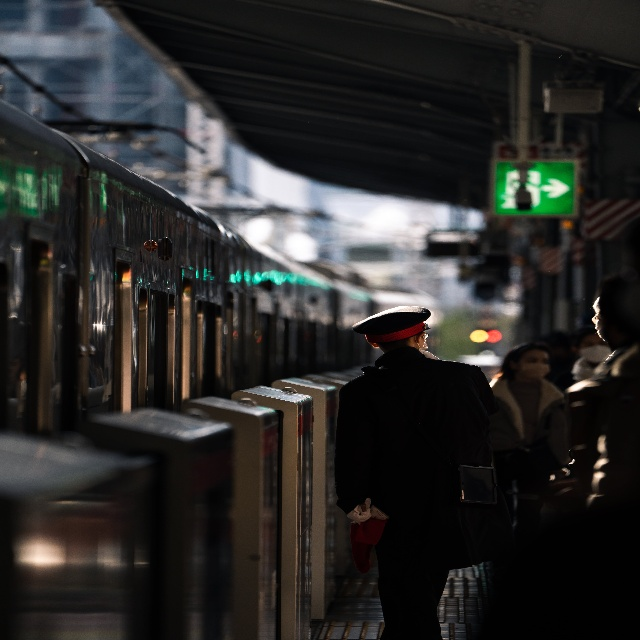Guantes: (348, 505, 371, 525)
Mascara: (521, 362, 550, 380)
